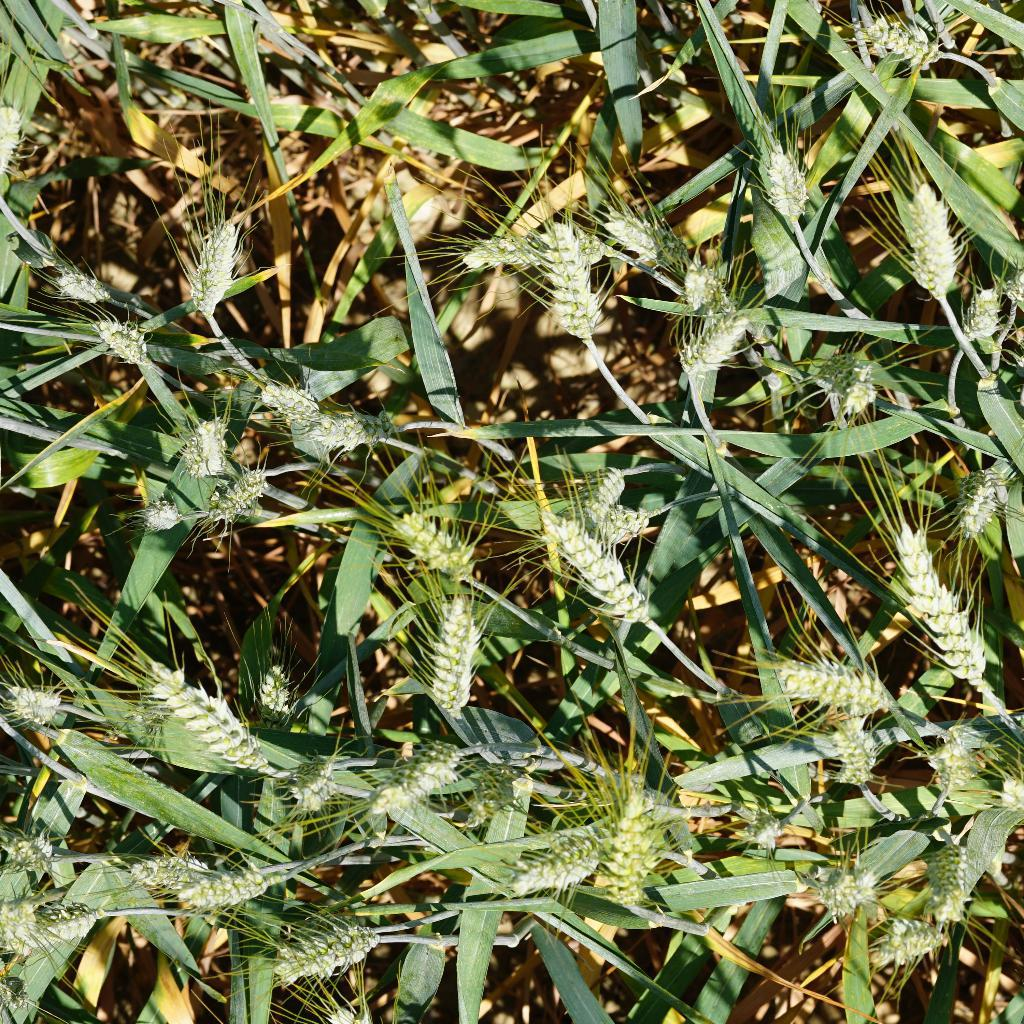0-0: (890, 519, 997, 698), (137, 658, 277, 791), (535, 509, 656, 638), (520, 205, 619, 348), (406, 585, 496, 718), (894, 159, 971, 310), (768, 647, 904, 725), (456, 217, 616, 283), (589, 780, 664, 919), (357, 735, 475, 818), (841, 3, 960, 81), (381, 505, 485, 589), (175, 212, 253, 320), (492, 821, 598, 899), (671, 302, 759, 391), (269, 926, 399, 982), (601, 194, 690, 273), (0, 898, 115, 956), (803, 843, 881, 918), (808, 335, 888, 406), (761, 137, 822, 230), (926, 833, 984, 922), (949, 459, 1016, 535), (287, 408, 393, 456), (825, 718, 885, 802), (83, 314, 165, 374), (871, 905, 950, 967), (671, 250, 742, 317), (129, 840, 220, 892), (174, 862, 275, 908), (561, 451, 621, 524), (171, 414, 234, 481), (205, 463, 272, 522), (462, 767, 520, 834), (242, 653, 303, 716), (250, 373, 318, 429), (3, 676, 70, 731), (0, 827, 71, 878), (925, 728, 974, 798), (287, 755, 344, 814), (43, 264, 115, 310), (950, 281, 1001, 342), (732, 802, 787, 856), (120, 687, 177, 737), (135, 485, 186, 537), (604, 503, 650, 553)
